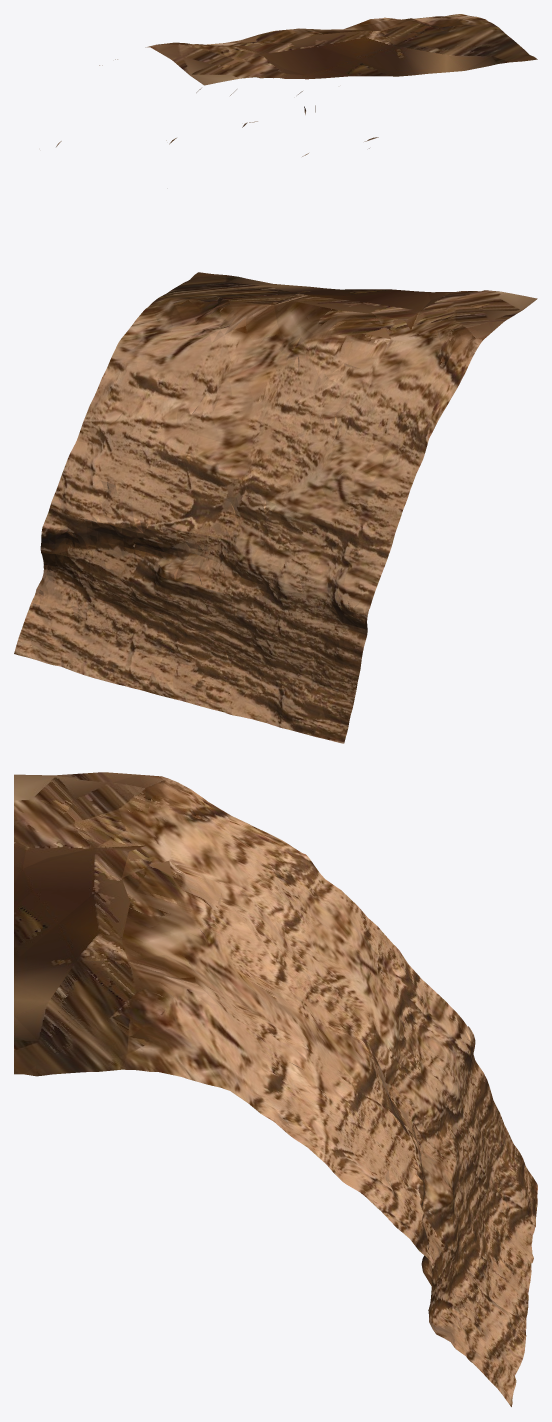
The picture shows the model from 3 angles, top to bottom: view 1: azimuth 30°, elevation 25°; view 2: azimuth 150°, elevation 25°; view 3: azimuth 270°, elevation 25°; orthographic projection. The views are drawn at different scales.
Size of the model in its own units: 1.04 by 0.8956 by 1.03.
3 materials, 3 textured.
